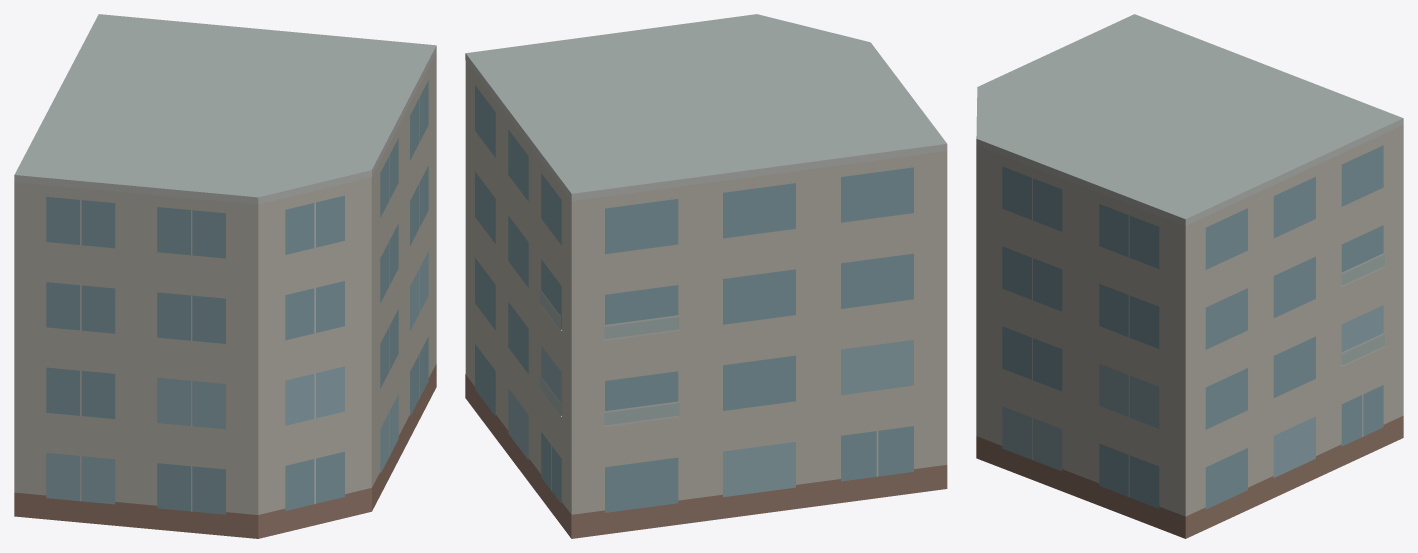
File: survey-upis-32743816.glb
3 views of the same model, side by side, from view 1: azimuth 30°, elevation 25°; view 2: azimuth 150°, elevation 25°; view 3: azimuth 270°, elevation 25° (orthographic). The views are drawn at different scales.
Parts seen in each view (by area): view 1: survey-upis-32743816.tmp; view 2: survey-upis-32743816.tmp; view 3: survey-upis-32743816.tmp.
Boxes of the visible parts, x1,y1,x2,y2 form: survey-upis-32743816.tmp: (14, 14, 436, 538); survey-upis-32743816.tmp: (465, 14, 947, 538); survey-upis-32743816.tmp: (976, 14, 1403, 538).
Size of the model in its own units: 16.12 by 11.7 by 14.18.
